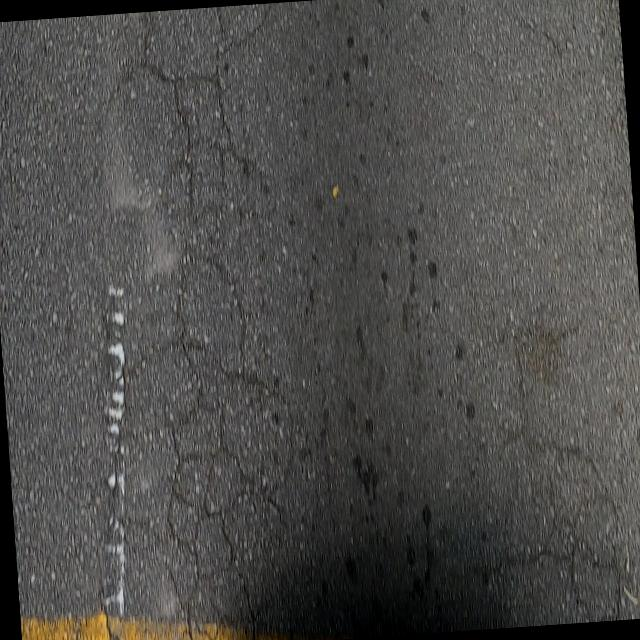Retak-Buaya: (113, 31, 311, 640), (474, 320, 629, 628)
